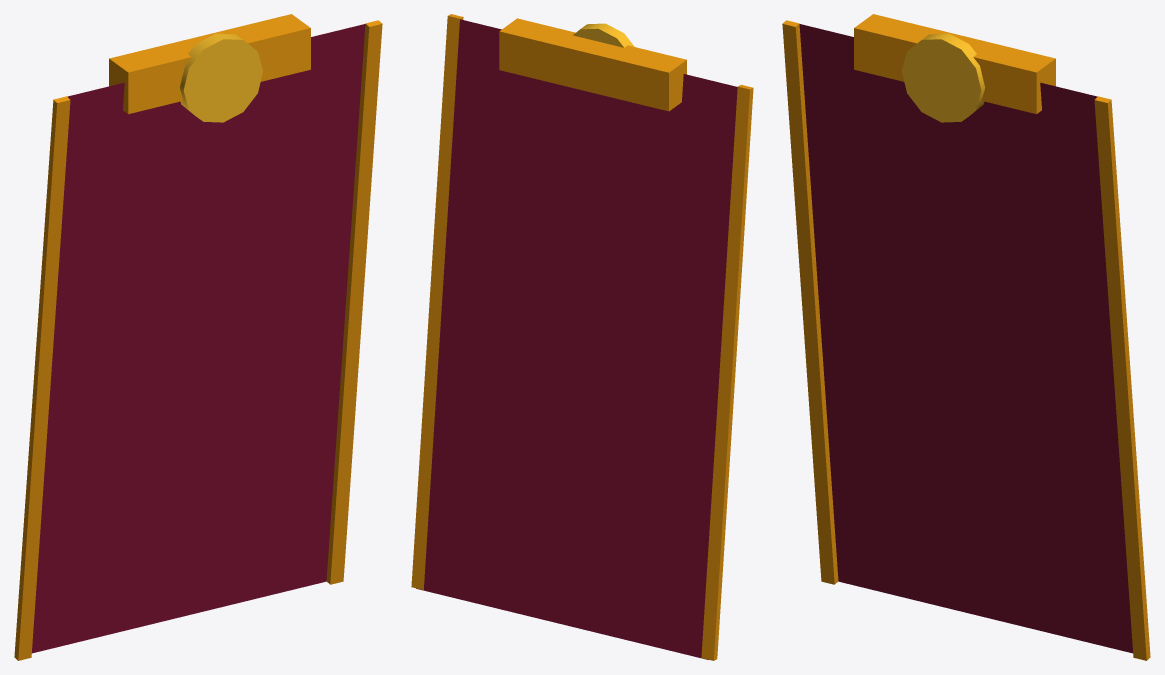
Rendered from cape_of_lord.glb.
3 renders of one model, left to right at view 1: azimuth 30°, elevation 25°; view 2: azimuth 150°, elevation 25°; view 3: azimuth 330°, elevation 25°, orthographic. The views are drawn at different scales.
Parts seen in each view (by area): view 1: CAPE_OF_LORD_LEVEL2; view 2: CAPE_OF_LORD_LEVEL2; view 3: CAPE_OF_LORD_LEVEL2.
Part boxes in pixels (box(x1,y1,x2,y2)): CAPE_OF_LORD_LEVEL2: box(14, 14, 382, 660); CAPE_OF_LORD_LEVEL2: box(411, 14, 753, 660); CAPE_OF_LORD_LEVEL2: box(782, 14, 1150, 660).
Size of the model in its own units: 0.98 by 1.77 by 0.2418.
